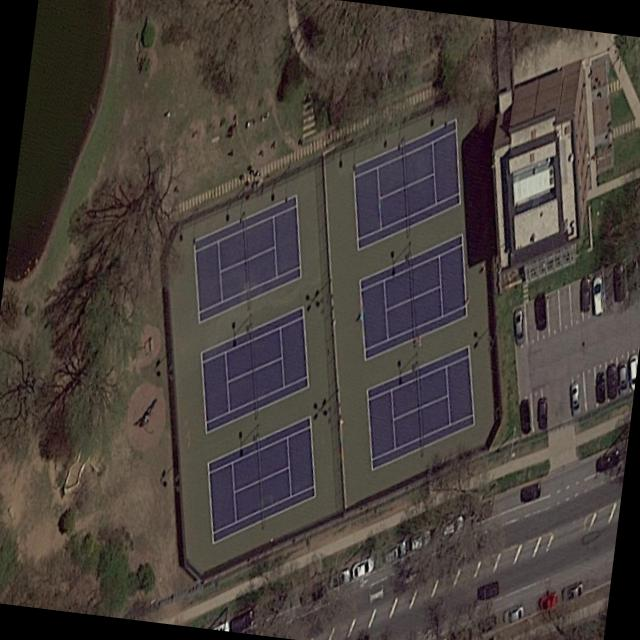small-vehicle: (379, 537, 406, 564), (350, 555, 374, 581), (438, 514, 462, 539), (595, 450, 618, 474), (326, 567, 349, 591), (560, 580, 582, 603), (408, 529, 430, 552), (591, 273, 601, 316), (533, 293, 544, 332), (612, 262, 622, 304), (476, 580, 497, 600), (502, 605, 522, 626), (519, 483, 538, 504), (477, 614, 495, 636), (513, 308, 523, 346), (519, 399, 529, 435), (570, 381, 580, 417), (538, 591, 556, 611), (616, 361, 626, 396), (580, 276, 589, 312), (606, 364, 615, 400), (537, 397, 546, 431), (447, 628, 471, 640), (595, 372, 603, 404)
